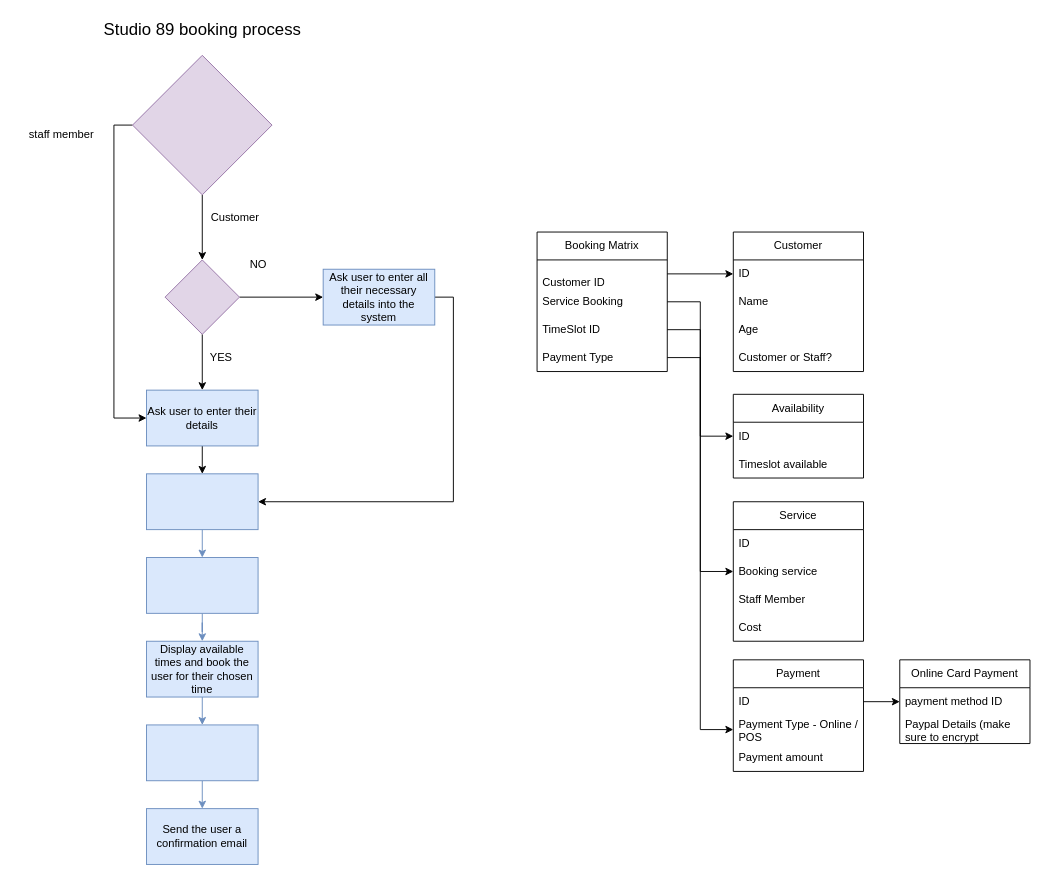
Some shapes in this 1046 by 881 pixel diagram are drawn without their labels. The shapes that lost their labels are listed below. From the top down, each one's centre as x and y in pixels, then its label:
At (202,124): "Ask the user if they are a customer or staff member".
At (201,296): "Do they have an existing account".
At (202,501): "Choose a service to book".
At (202,585): "Fetch the user details - age, email, address, telephone number".
At (202,752): "Update the DB to show reserved time slot".
